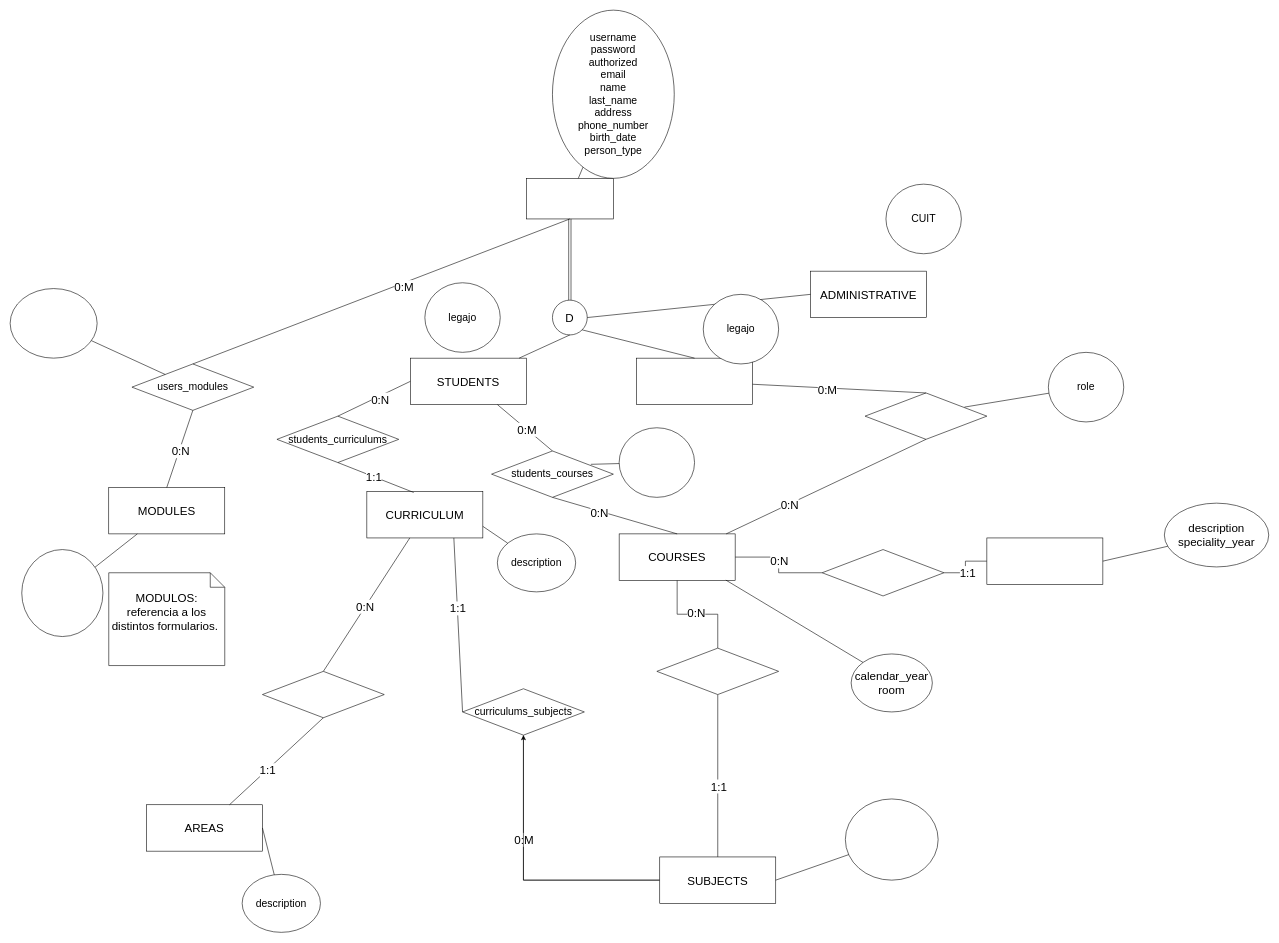
This 1279x943 diagram has some shape labels left out. Each missing label, with the centre of its shape:
areas_curriculums: pixel 323 694
COMISIONES: pixel 1044 560
courses_comissions: pixel 883 572
courses_subjects: pixel 717 671
create read update delete: pixel 53 323
description ejecuta??: pixel 62 593
description weekly_hours total_hours: pixel 891 839
status grade: pixel 657 462
TEACHERS: pixel 694 381
teachers_courses: pixel 925 415
USERS: pixel 569 198
